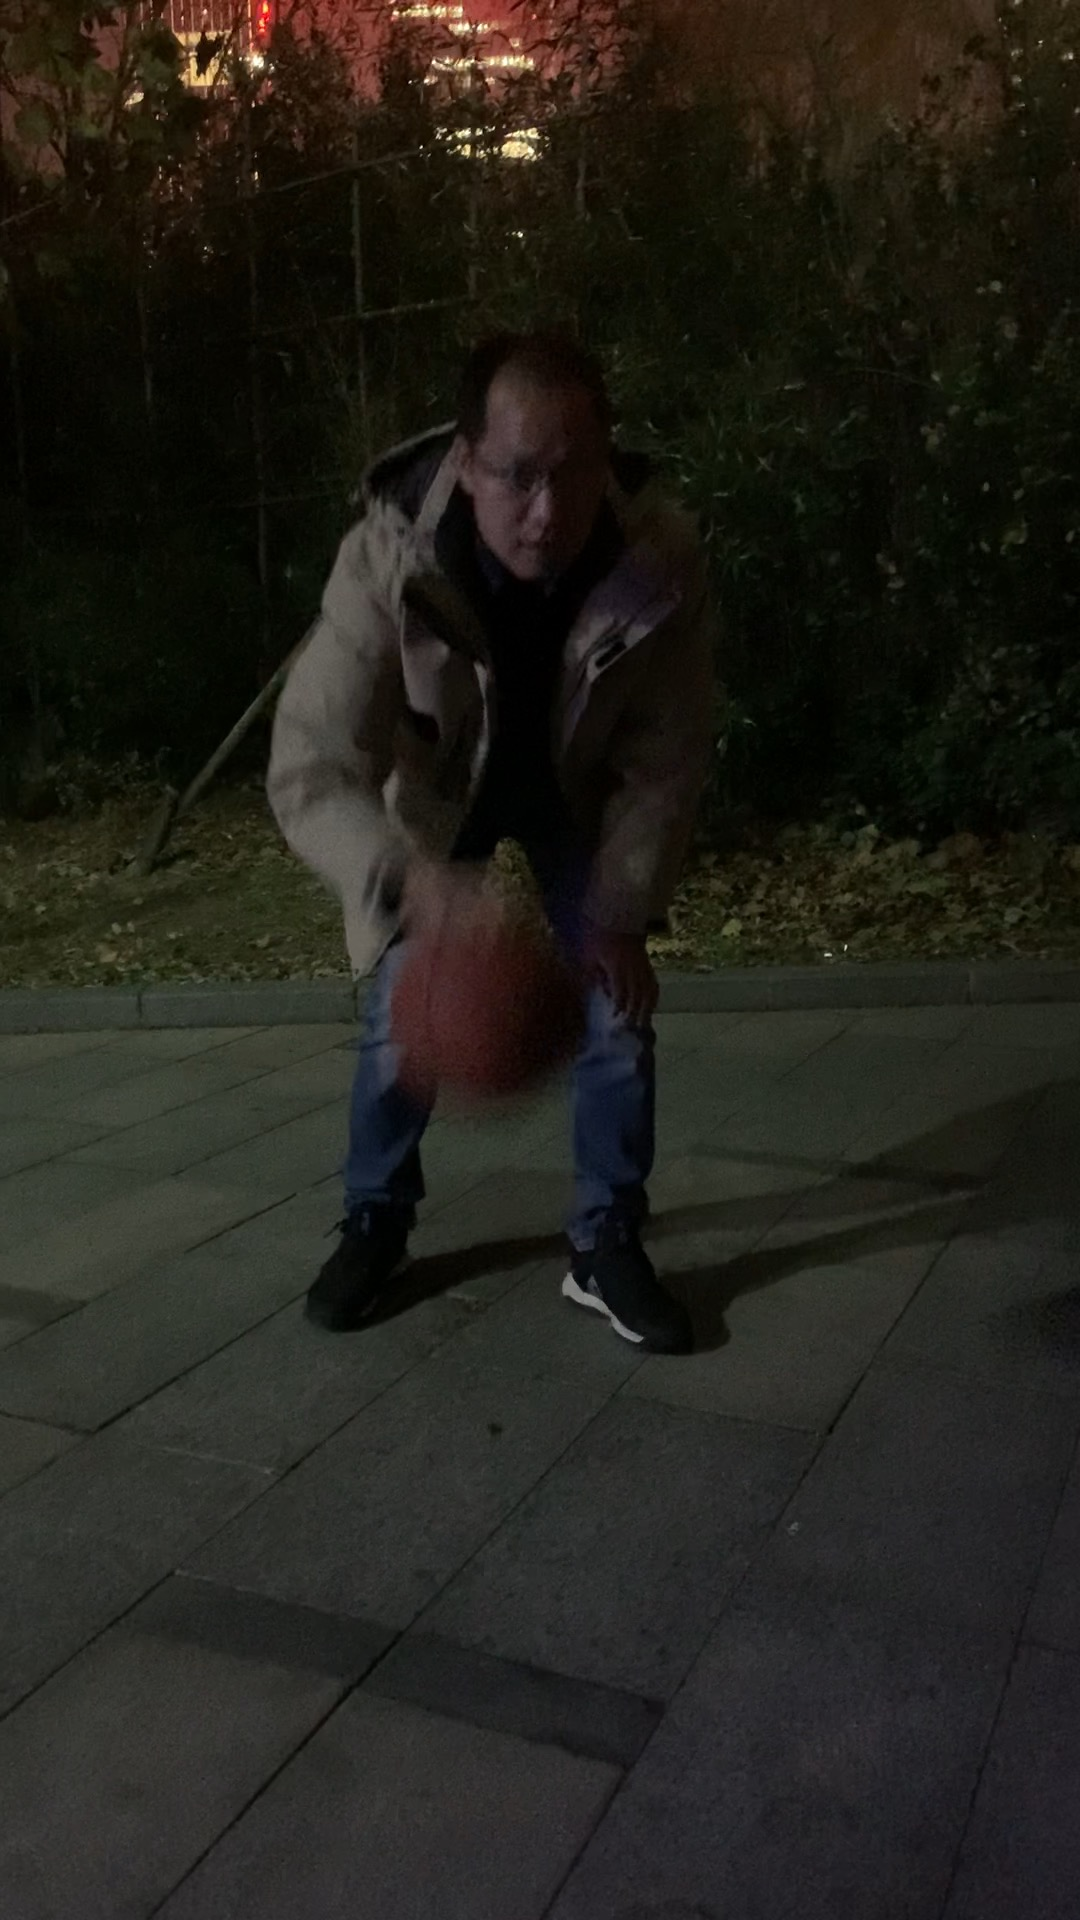ball: (389, 910, 591, 1102)
